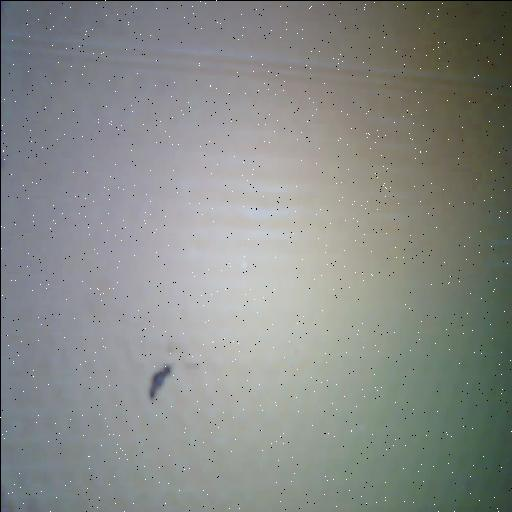Insects: (148, 365, 170, 399)
